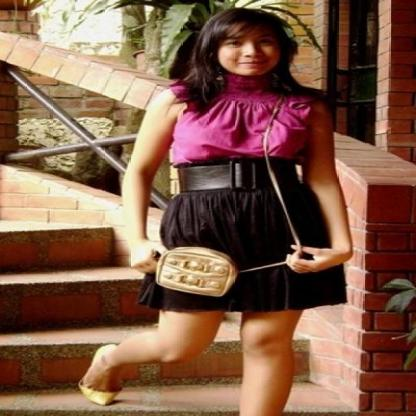bag: (135, 175, 300, 296)
shirt: (170, 68, 320, 164)
shoe: (73, 384, 111, 407)
skirt: (131, 174, 347, 312)
